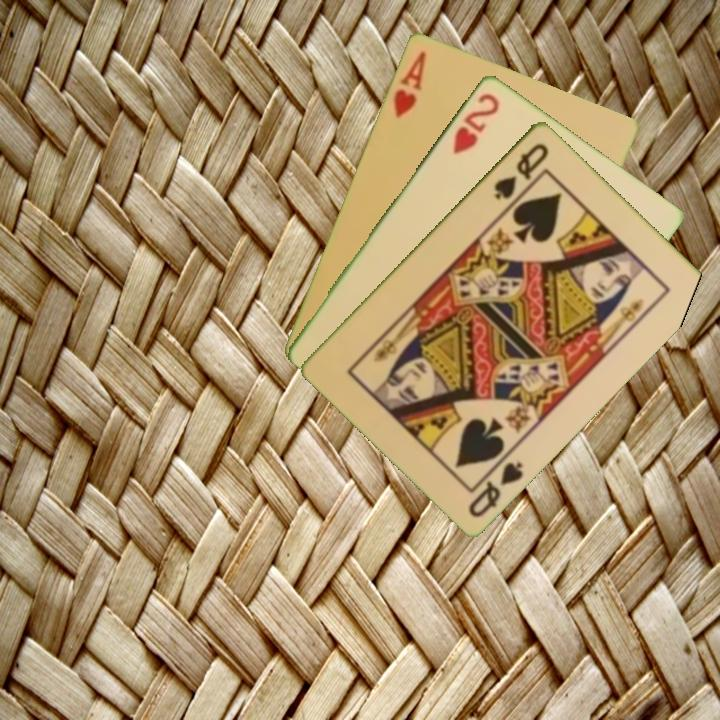2h: (449, 89, 503, 157)
Ah: (389, 47, 429, 121)
Qs: (464, 457, 526, 520), (490, 139, 551, 202)
